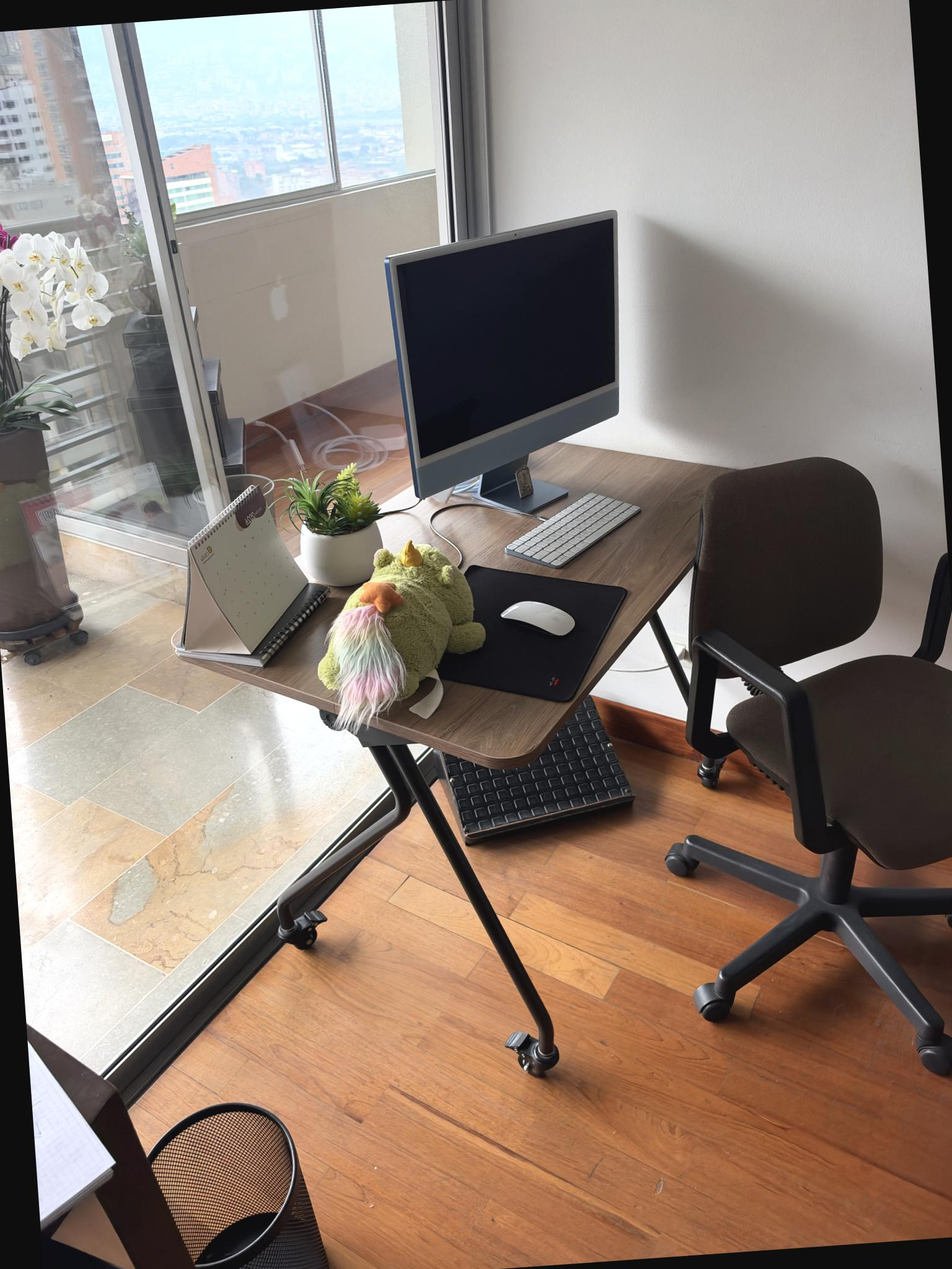peluche_martin: (308, 534, 493, 742)
